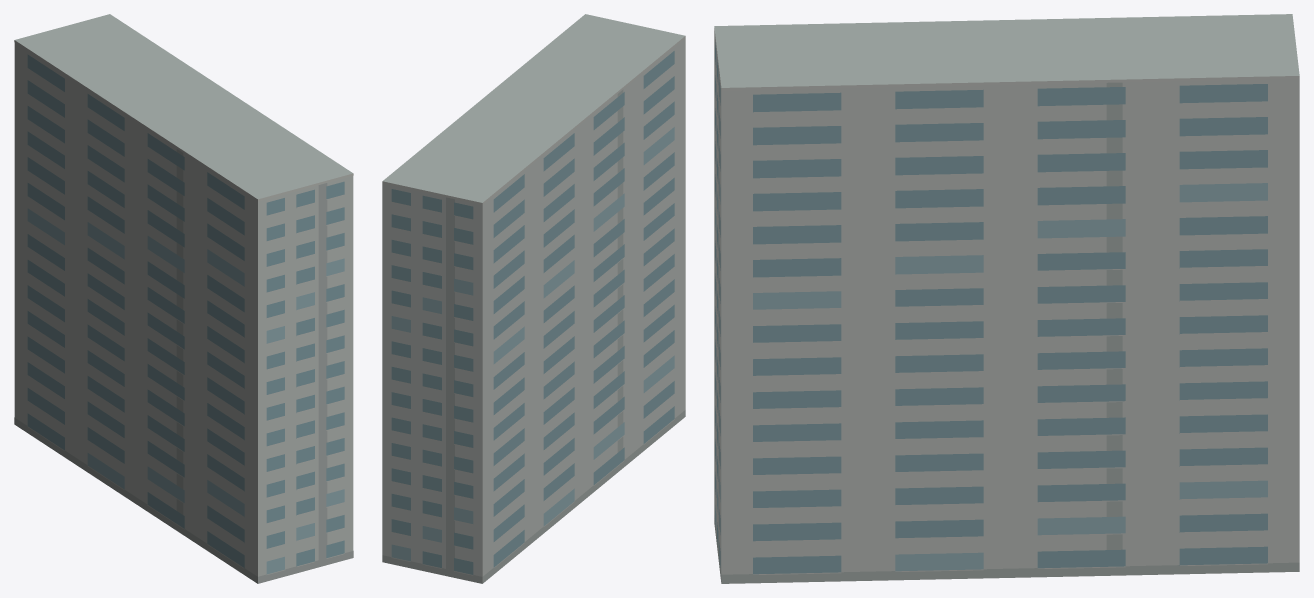
The model's file is residential-6453f92f-ca6c-4555-b5df-e7b2f95f6348.glb.
The picture shows the model from 3 angles, left to right: view 1: azimuth 30°, elevation 25°; view 2: azimuth 150°, elevation 25°; view 3: azimuth 270°, elevation 25°; orthographic projection. The views are drawn at different scales.
Parts seen in each view (by area): view 1: residential-6453f92f-ca6c-4555-b5df-e7b2f95f6348.tmp; view 2: residential-6453f92f-ca6c-4555-b5df-e7b2f95f6348.tmp; view 3: residential-6453f92f-ca6c-4555-b5df-e7b2f95f6348.tmp.
Part boxes in pixels (left/top/right/bottom): residential-6453f92f-ca6c-4555-b5df-e7b2f95f6348.tmp: left=14, top=14, right=353, bottom=583; residential-6453f92f-ca6c-4555-b5df-e7b2f95f6348.tmp: left=382, top=14, right=685, bottom=583; residential-6453f92f-ca6c-4555-b5df-e7b2f95f6348.tmp: left=714, top=14, right=1299, bottom=583.
Bounding box in the file's own units: 13.13 × 41 × 43.87.
